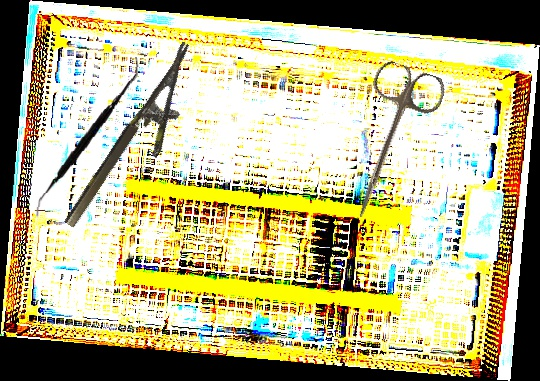Iris Scissors: (330, 57, 449, 230)
Needle Holder: (62, 41, 219, 245)
Spatula Surgical: (33, 50, 140, 224)
